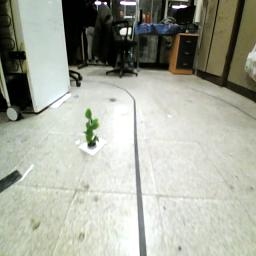herb: (84, 107, 102, 148)
